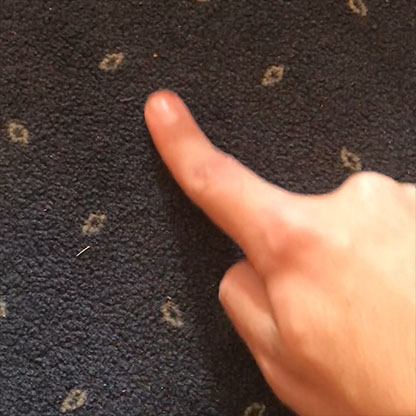fingertip: (127, 78, 196, 130)
